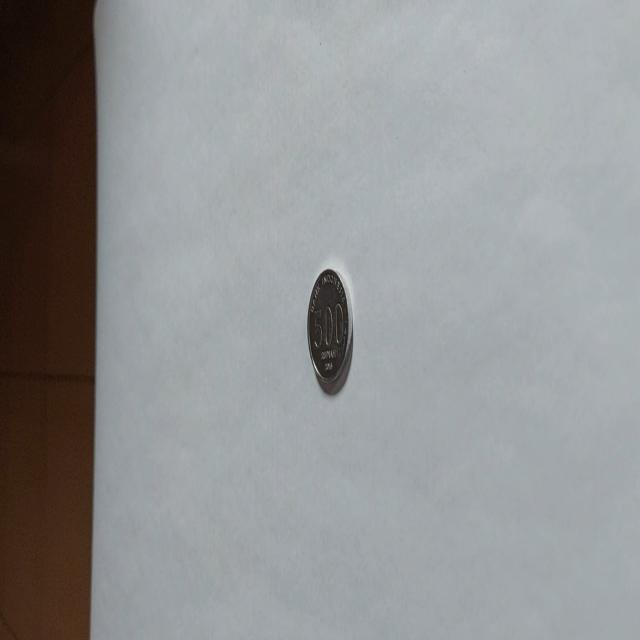lima ratus rupiah: (306, 266, 354, 394)
